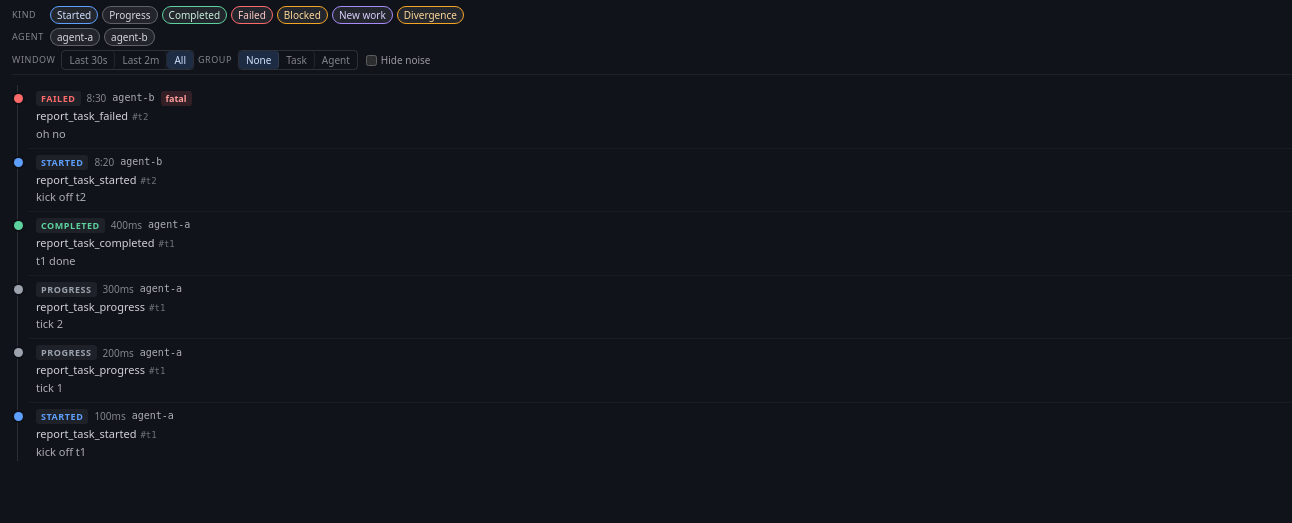
Test: <OrchestrationTimeline /> › group by task creates a group per task_id
This screenshot has width=1292, height=523.
Click the button with test id "orch-group-task" at (297, 60), box [279, 51, 315, 69]
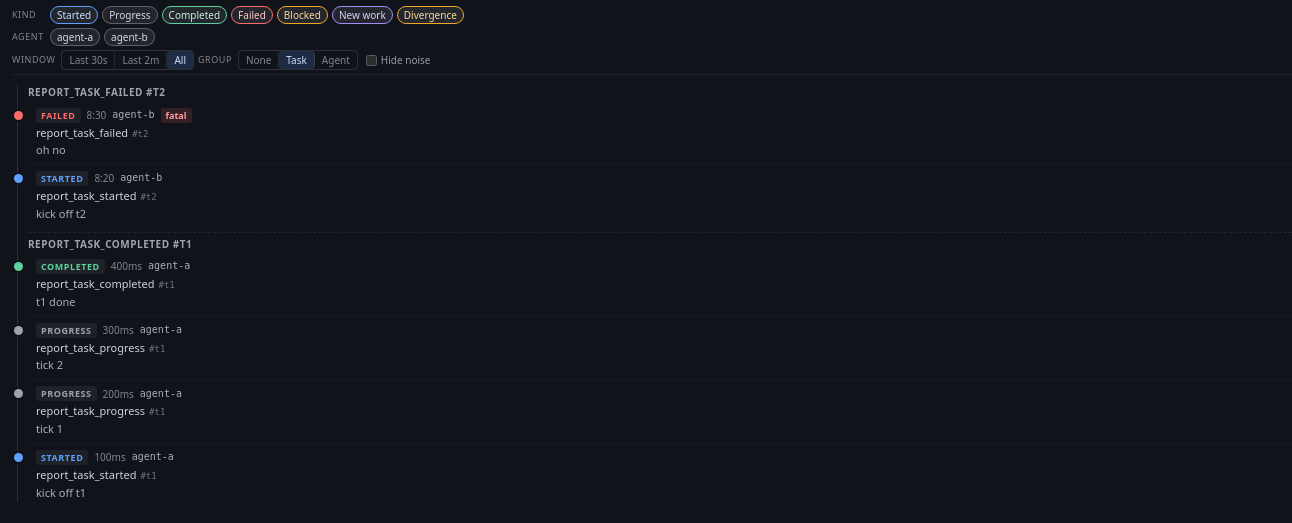
Expected: the number of elements with test id "orchestration-group" is 2, [28, 85, 1291, 228]; [28, 232, 1291, 506]
